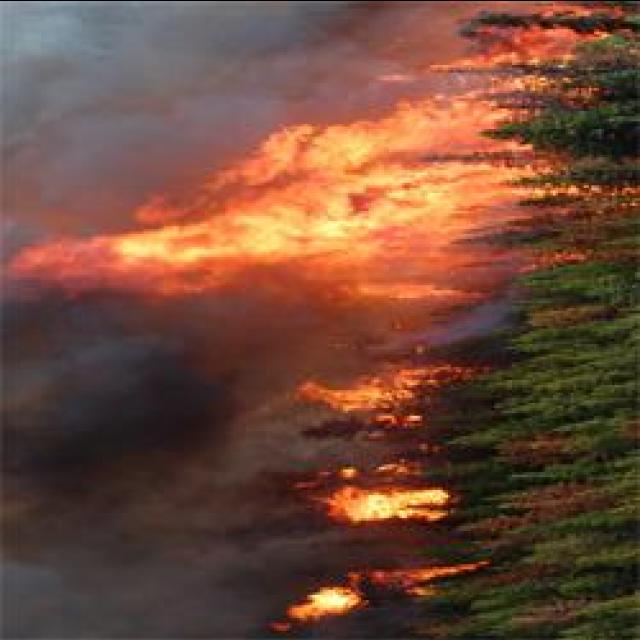fire: (319, 127, 404, 193), (245, 202, 340, 253), (332, 484, 446, 522), (137, 228, 241, 268), (370, 188, 447, 232), (291, 580, 361, 620)
smoke: (23, 348, 228, 492), (0, 496, 156, 640), (10, 64, 120, 205), (242, 2, 394, 102)
